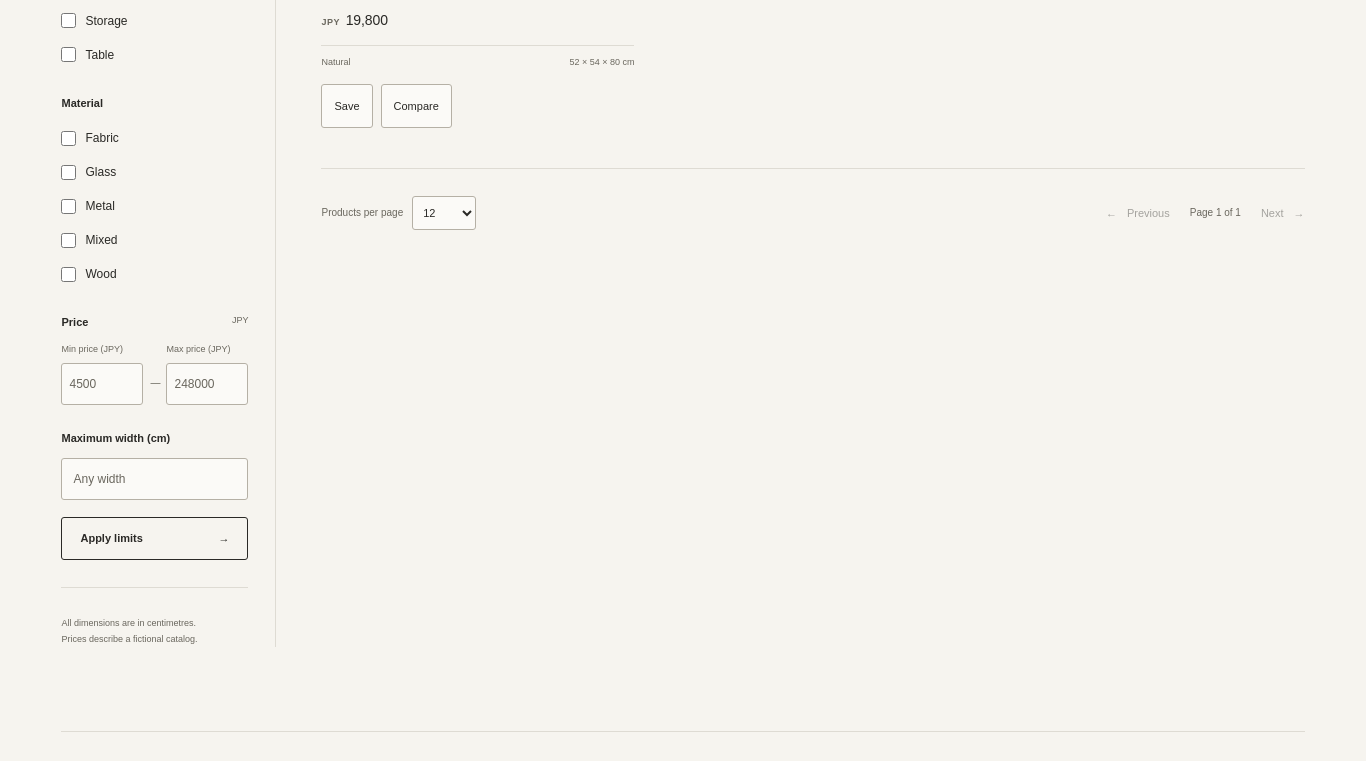
Test: catalog browsing › keeps valid applied results while invalid draft bounds are corrected
(page scrolled)
Type "20000" into the field labelled "Min price (JPY)".
click(102, 384); type("20000")  # box [62,363,144,405]
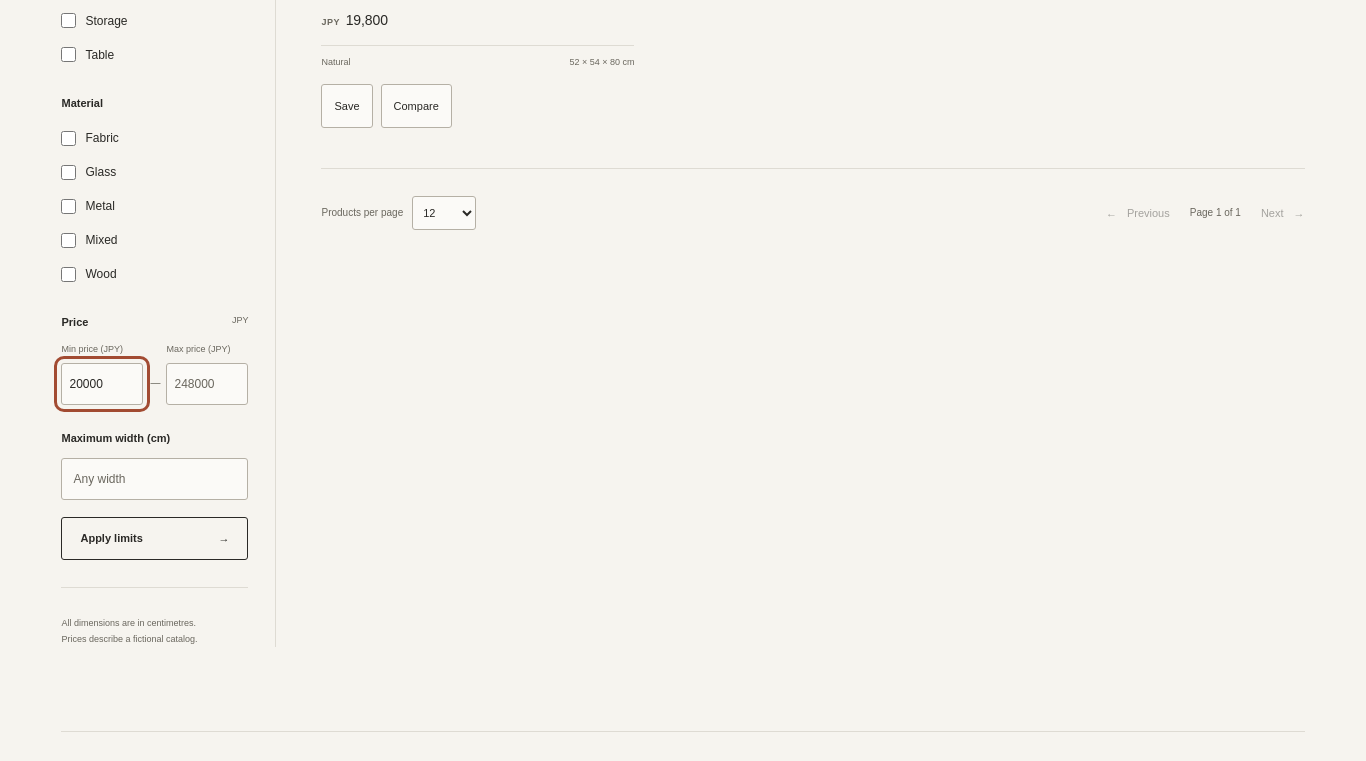
Type "10000" into the field labelled "Max price (JPY)".
click(208, 384); type("10000")  # box [166,363,248,405]
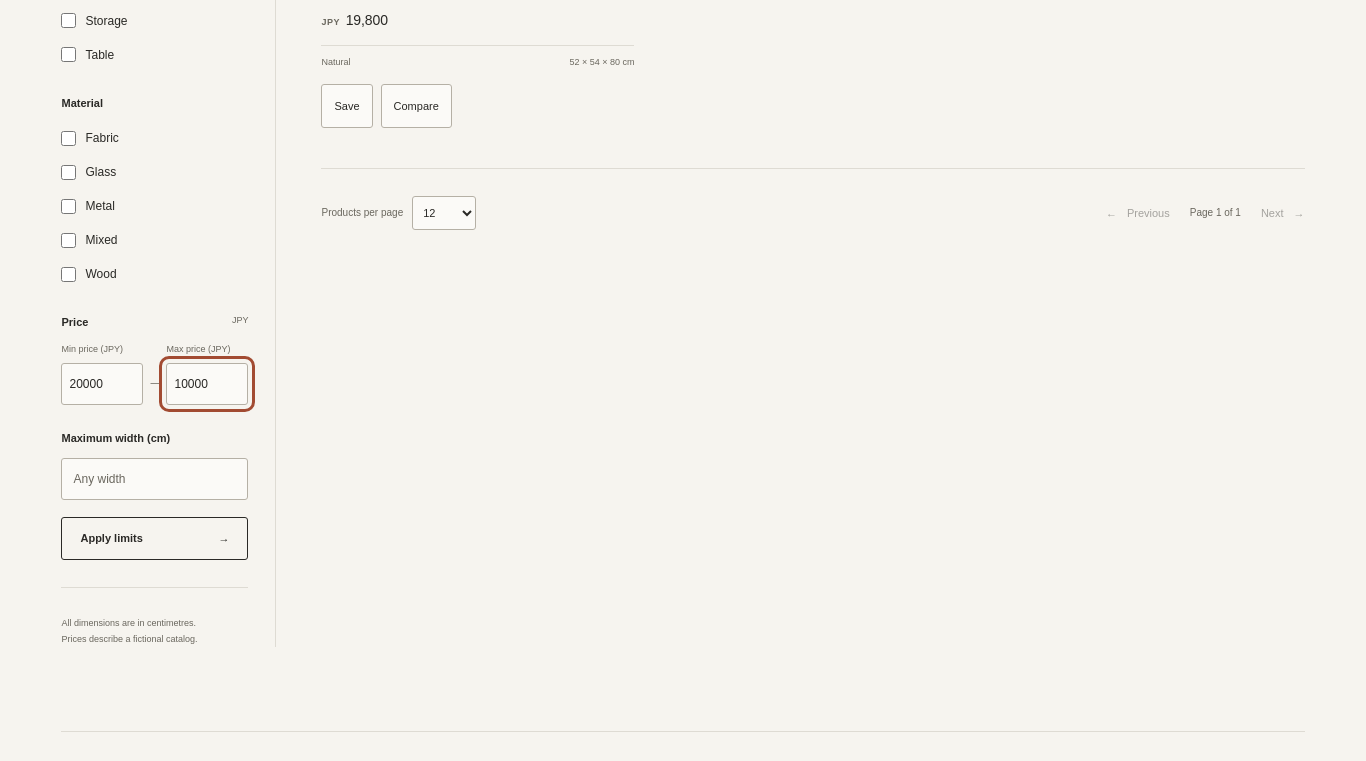
Click the button "Apply limits →".
click(155, 538)  # box [62,517,248,560]
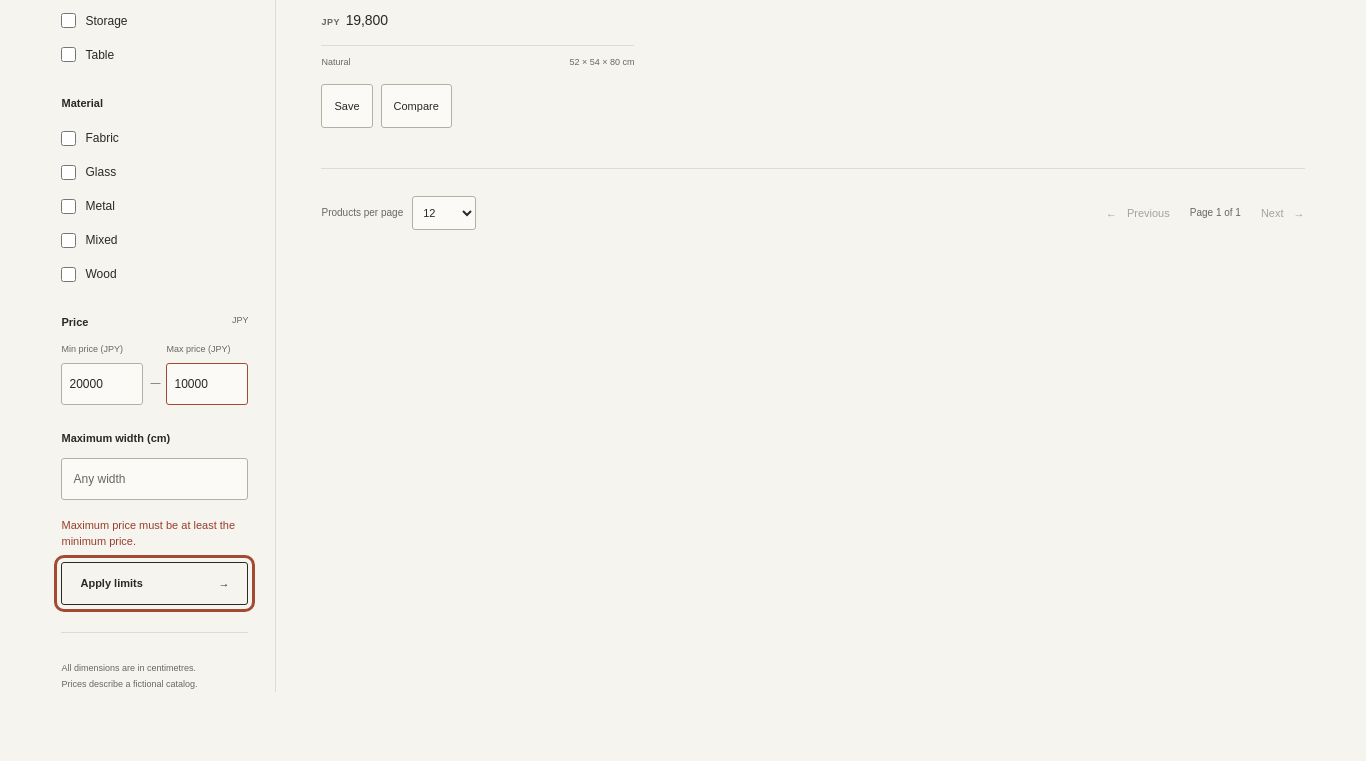
expect the message reads "Maximum price must be at least the minimum price.": met, box [62,519,235,547]
Replace the text in the field labelled "Max price (JPY)" with "40000" at (208, 384), box [166,363,248,405]
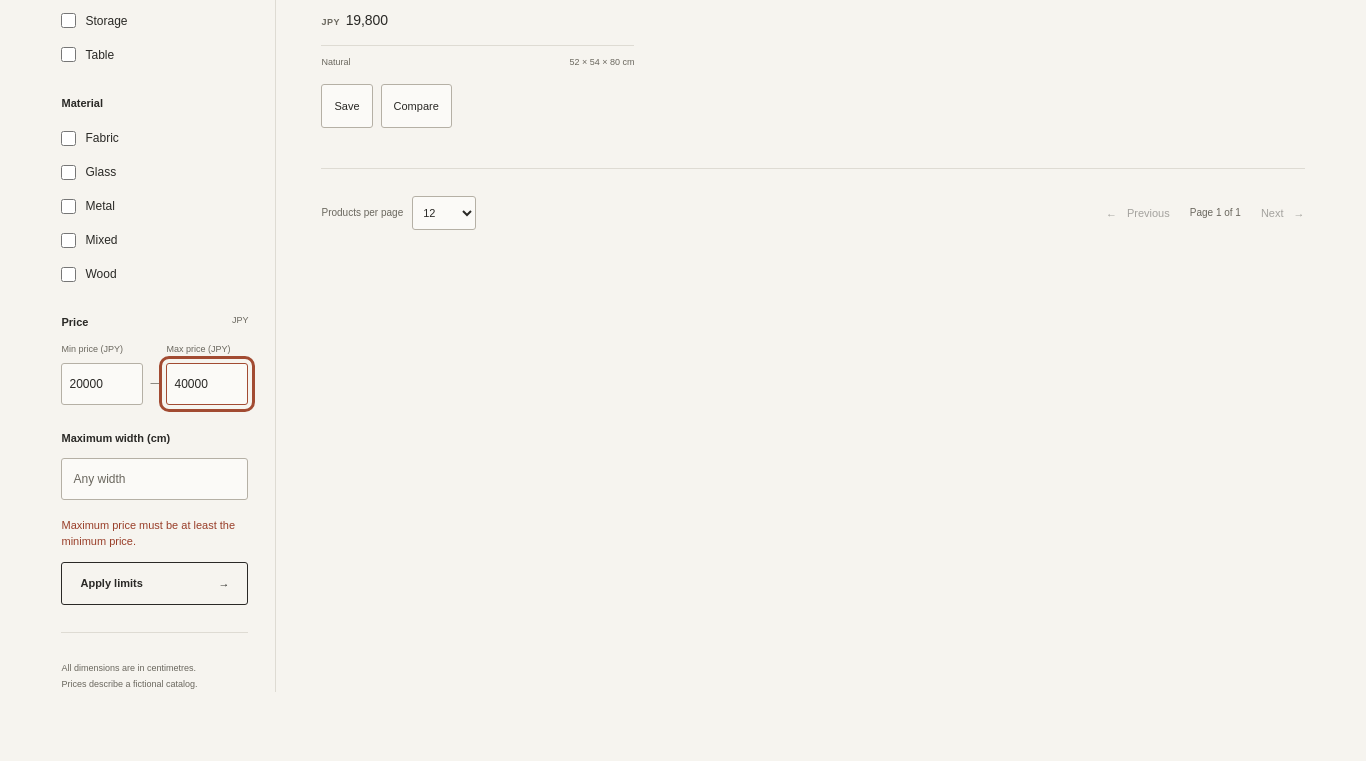
Click the button "Apply limits →".
click(155, 583)  # box [62,562,248,605]
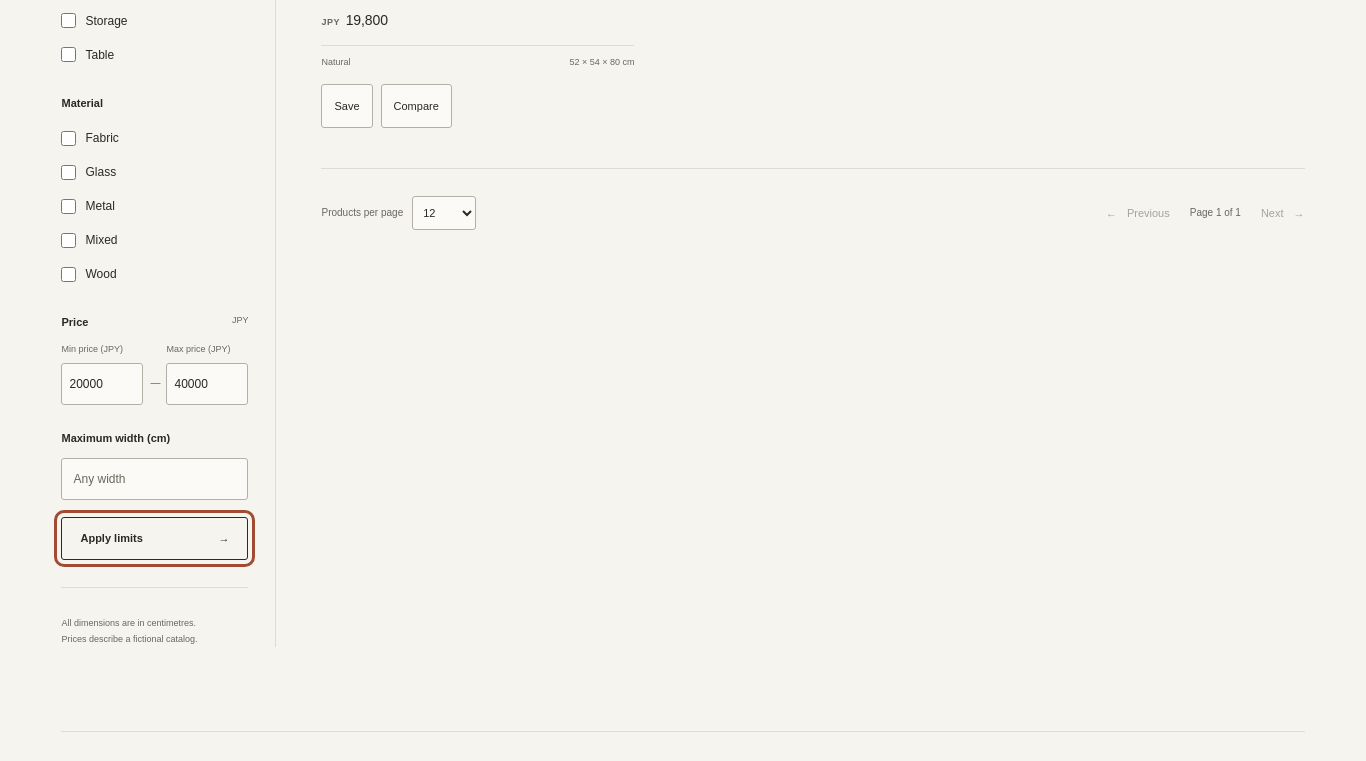
expect the message "Maximum price must be at least the minimum price." is gone: met
